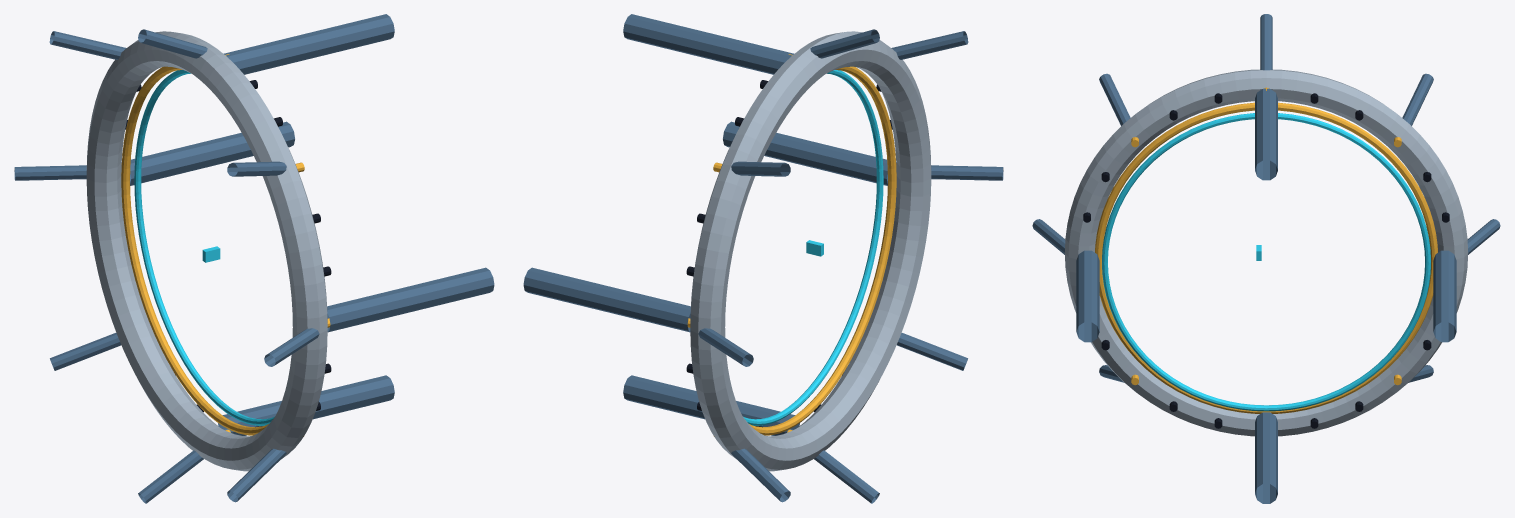
Rendered from 12_L85_StationCaptureStructuralFrame.fbx.
The picture shows the model from 3 angles, left to right: view 1: azimuth 30°, elevation 25°; view 2: azimuth 150°, elevation 25°; view 3: azimuth 270°, elevation 25°; orthographic projection. The views are drawn at different scales.
Visible parts, largest first — view 1: L85_StationCaptureStructuralFrame; view 2: L85_StationCaptureStructuralFrame; view 3: L85_StationCaptureStructuralFrame.
Boxes of the visible parts, bbox=[...] form: L85_StationCaptureStructuralFrame: bbox=[14, 14, 494, 503]; L85_StationCaptureStructuralFrame: bbox=[523, 14, 1003, 503]; L85_StationCaptureStructuralFrame: bbox=[1032, 14, 1500, 503].
Size of the model in its own units: 288 by 524 by 524.
